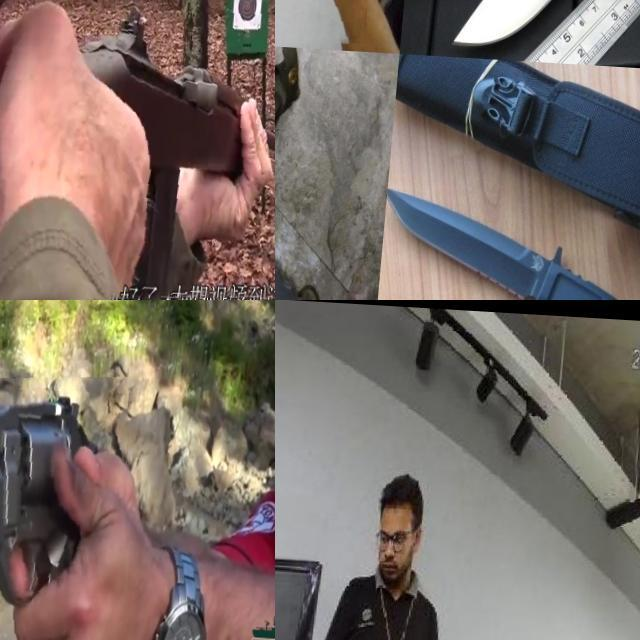-: (381, 181, 640, 300), (451, 0, 640, 145), (415, 0, 640, 120), (275, 113, 379, 300), (275, 0, 382, 108)
gun-knife-thesis - v11 Yolov5 augmented: (0, 0, 275, 300), (0, 366, 149, 640)
